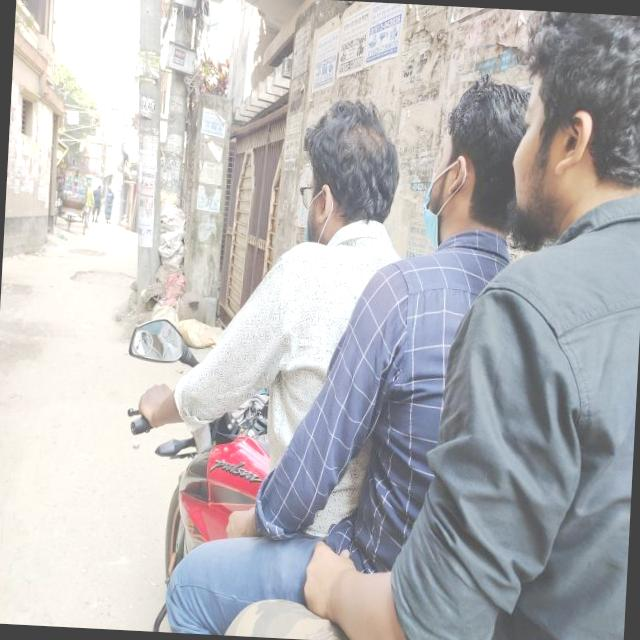motorcycle: (114, 308, 639, 640)
person: (348, 66, 583, 640), (437, 7, 640, 640), (199, 85, 419, 640)
rider_region: (122, 0, 640, 640)
